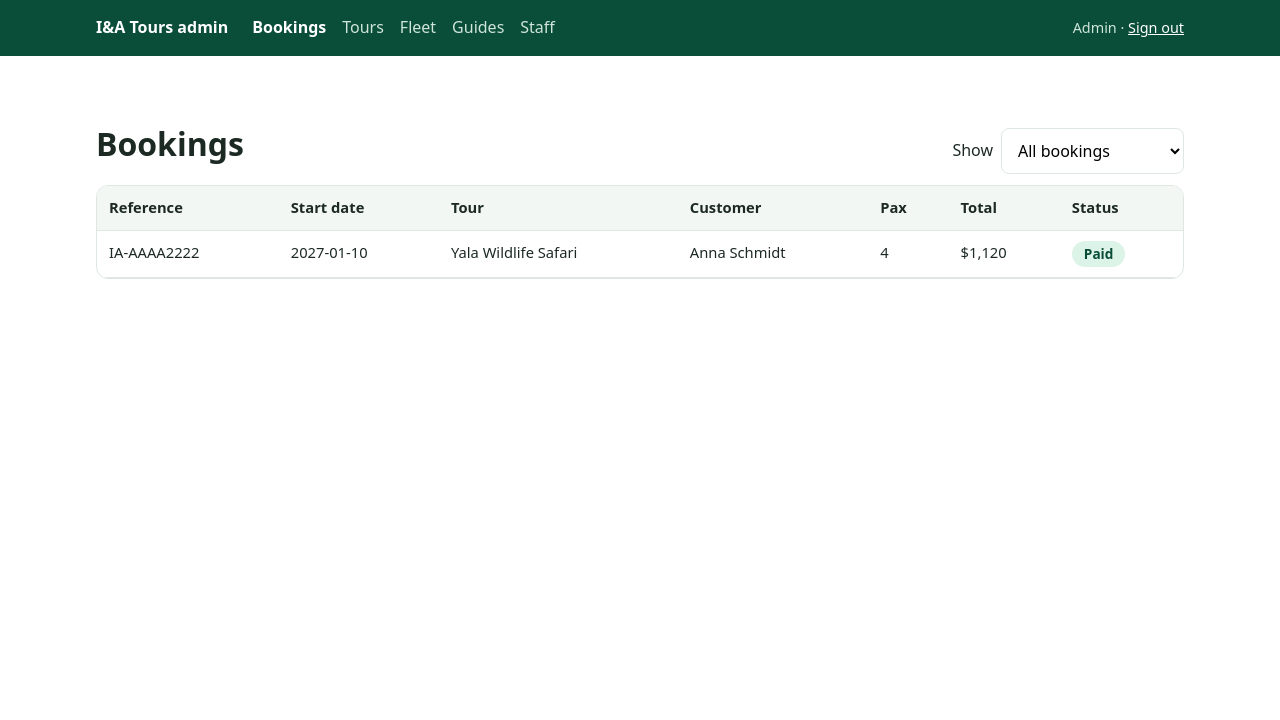
staff assistant › fills in the suggested guide and vehicle without saving
Click the text "Anna Schmidt" at (773, 254), box [678, 230, 868, 277]
(page scrolled)
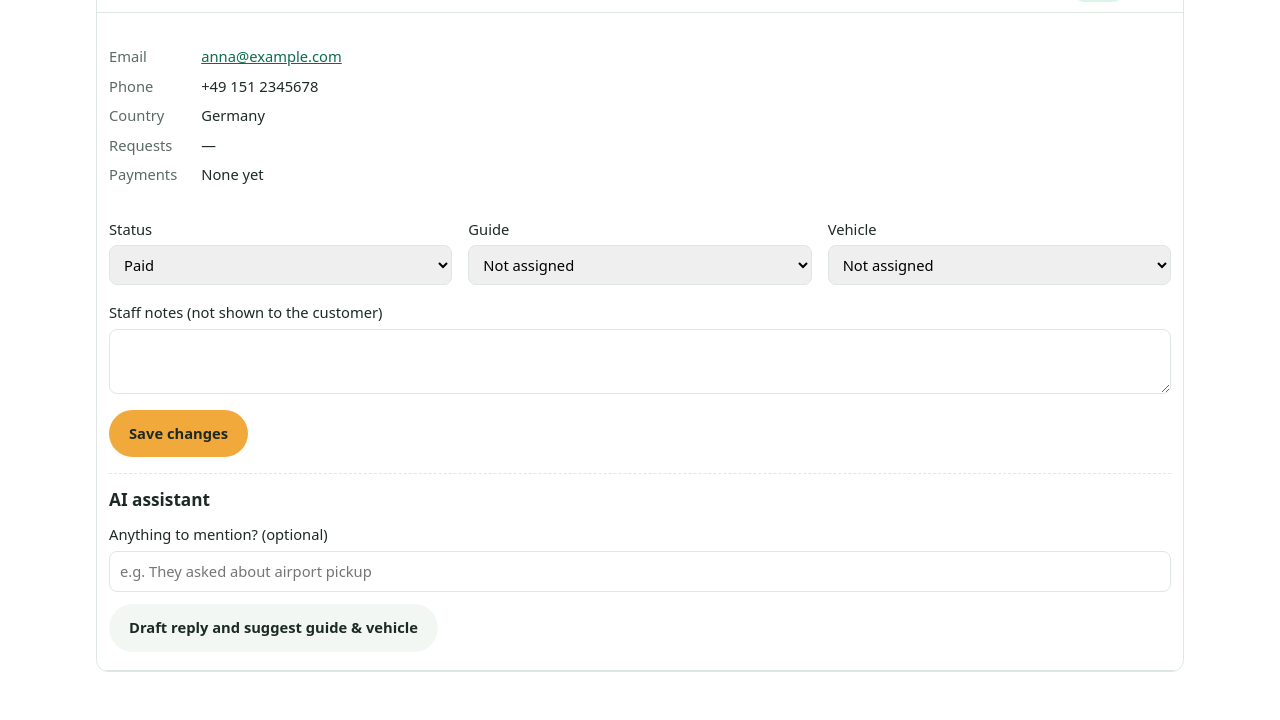
Click the button "Draft reply and suggest guide & vehicle" at (273, 628), box [109, 604, 438, 652]
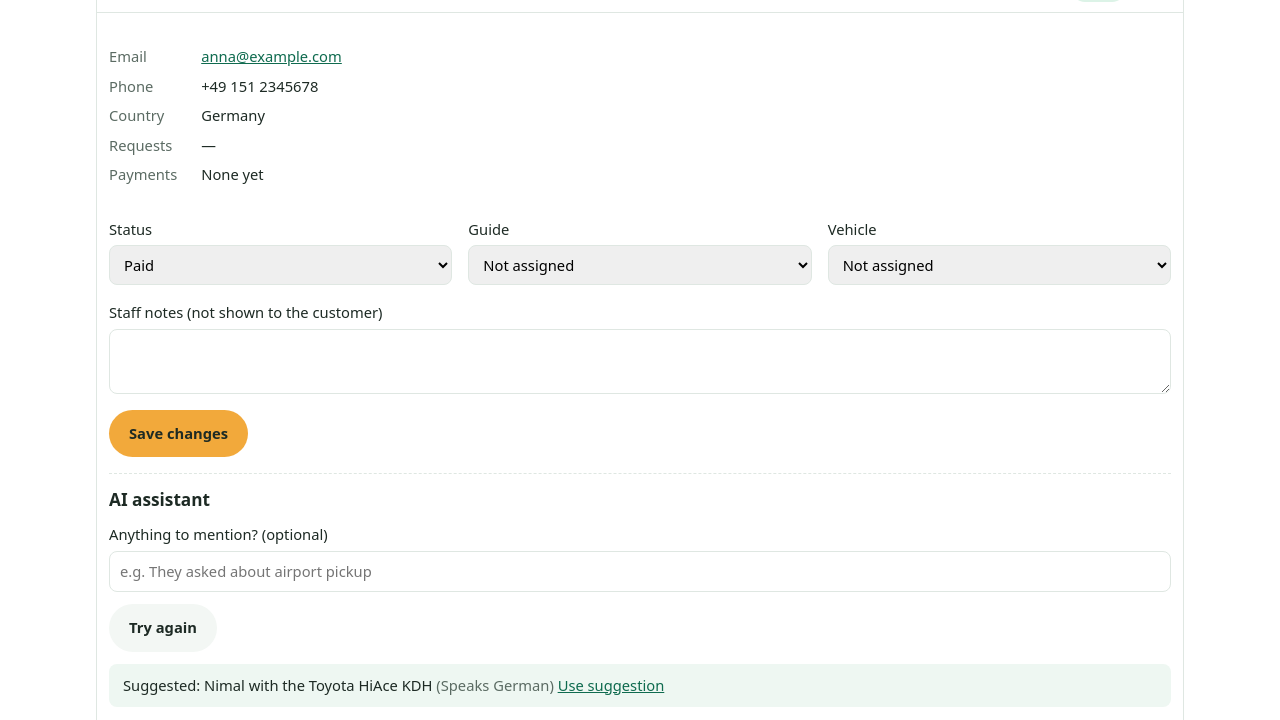
Click the button "Use suggestion" at (611, 686), box [558, 674, 664, 697]
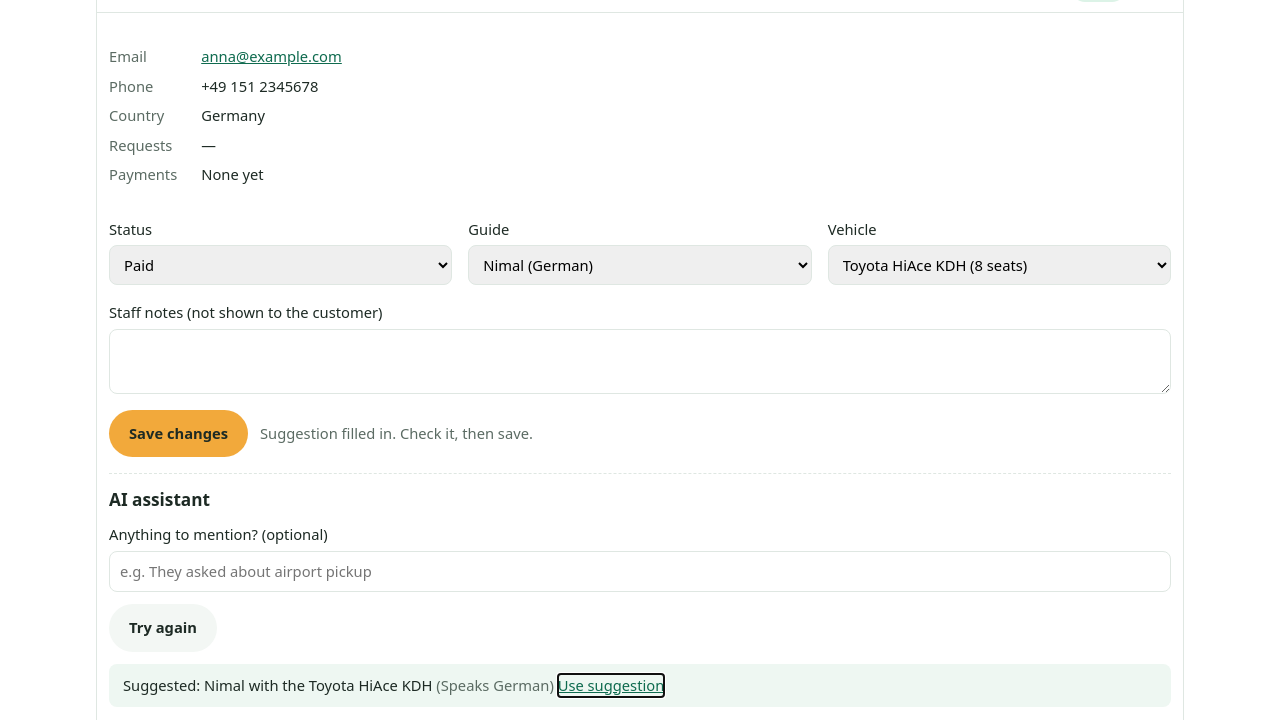
Now the dropdown labelled "Guide" shows "Nimal (German)", box [468, 245, 812, 285]
Now the dropdown labelled "Vehicle" shows "Toyota HiAce KDH (8 seats)", box [828, 245, 1171, 285]
